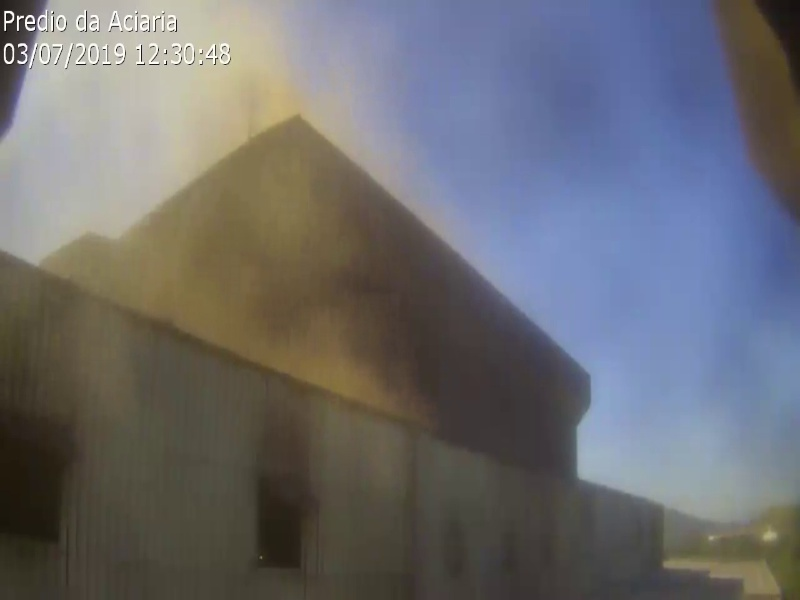Pessimo: (249, 143, 311, 281), (227, 1, 289, 138), (158, 86, 245, 135), (318, 347, 405, 396), (141, 257, 214, 302), (166, 276, 239, 321), (204, 300, 277, 345), (230, 315, 303, 360), (276, 335, 349, 380), (73, 242, 146, 287), (137, 208, 210, 253), (197, 201, 270, 246), (231, 231, 304, 276)
